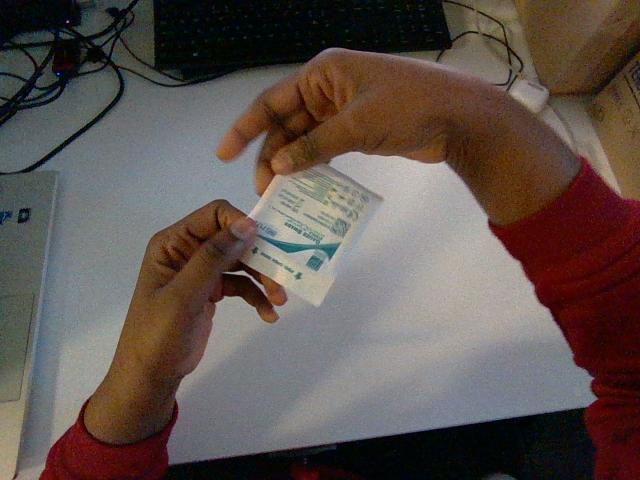gauze: (242, 164, 381, 305)
